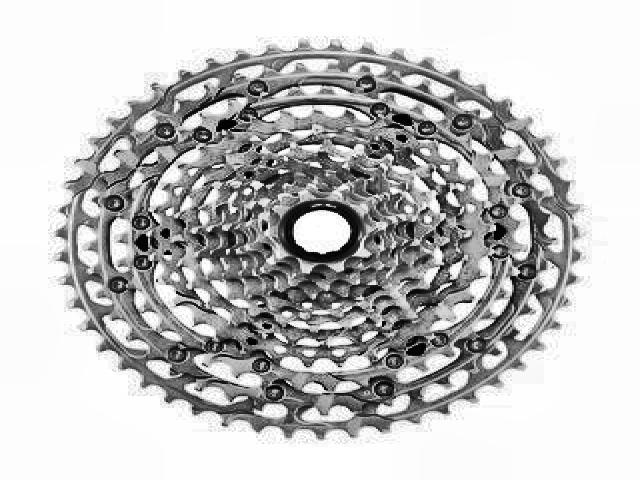cassette: (54, 39, 587, 438)
